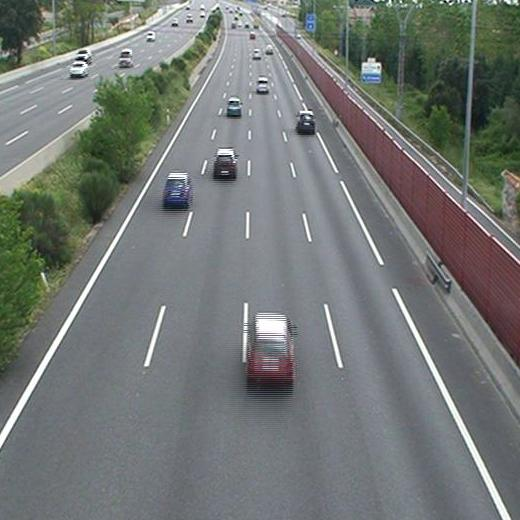car: (249, 314, 292, 379), (164, 173, 191, 205), (213, 150, 237, 174), (297, 111, 316, 129), (226, 98, 242, 115), (256, 77, 270, 92), (252, 48, 262, 58), (264, 45, 272, 53)
